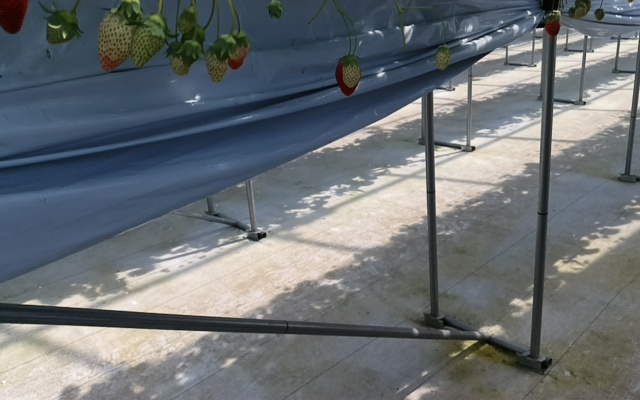GreenStrawberry: (97, 3, 140, 75), (130, 7, 168, 73), (43, 9, 79, 47), (162, 35, 193, 79), (203, 40, 229, 85), (222, 30, 250, 71), (434, 44, 450, 72), (343, 61, 359, 85), (594, 10, 607, 22)
MatureStrawberry: (335, 55, 362, 97), (544, 14, 562, 38)
